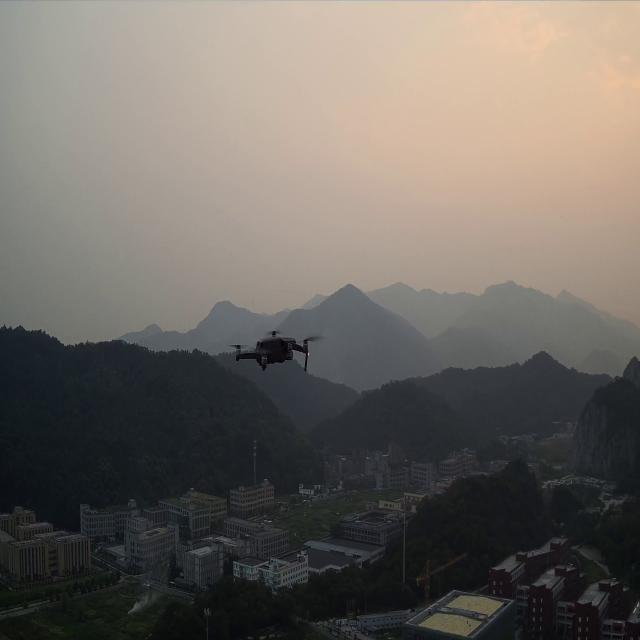UAV: (229, 329, 321, 374)
